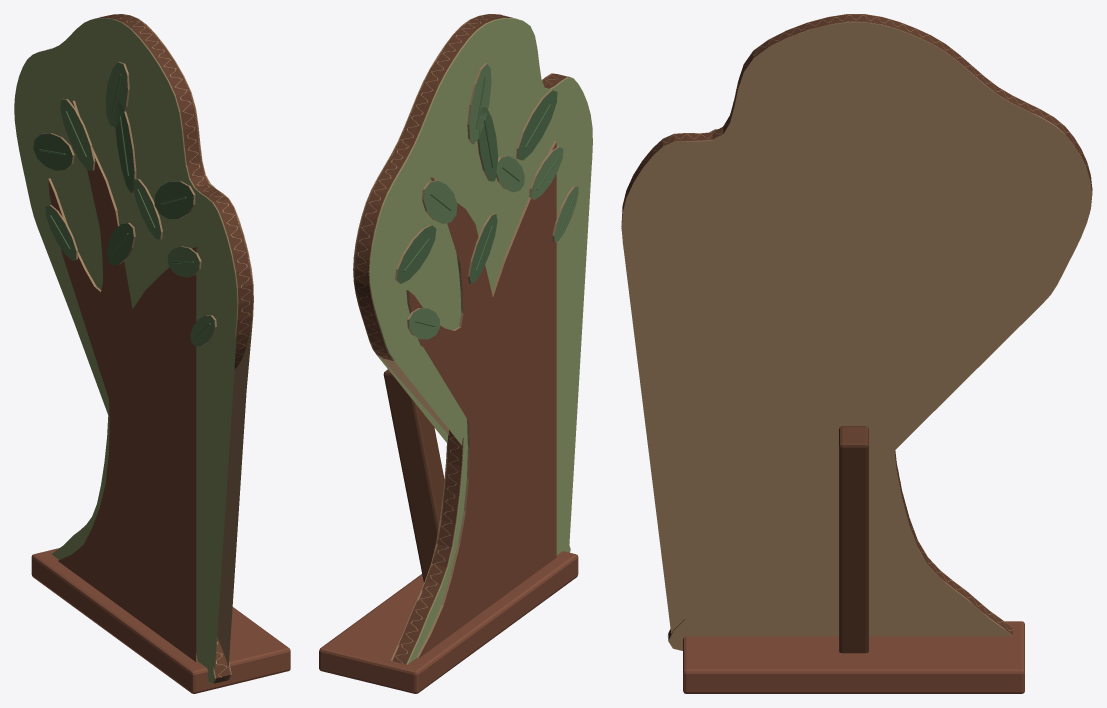
File: SM_Menu_ScenicTree.fbx
3 renders of one model, left to right at view 1: azimuth 30°, elevation 25°; view 2: azimuth 150°, elevation 25°; view 3: azimuth 270°, elevation 25°, orthographic. The views are drawn at different scales.
Visible parts, largest first — view 1: Tree Silhouette Core.001_Baked; view 2: Tree Silhouette Core.001_Baked; view 3: Tree Silhouette Core.001_Baked.
Boxes of the visible parts, x1,y1,x2,y2 form: Tree Silhouette Core.001_Baked: (14, 14, 290, 693); Tree Silhouette Core.001_Baked: (319, 14, 592, 693); Tree Silhouette Core.001_Baked: (621, 14, 1092, 693).
Bounding box in the file's own units: 39.42 × 141 × 210.
